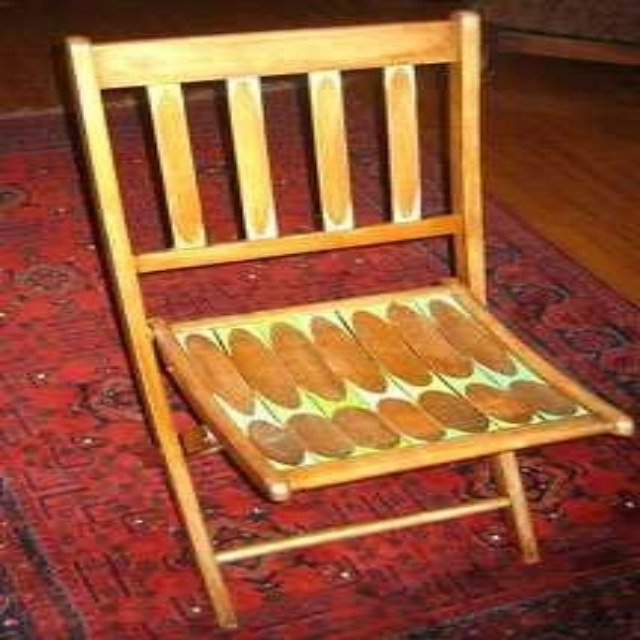obstacle: (65, 11, 631, 625)
